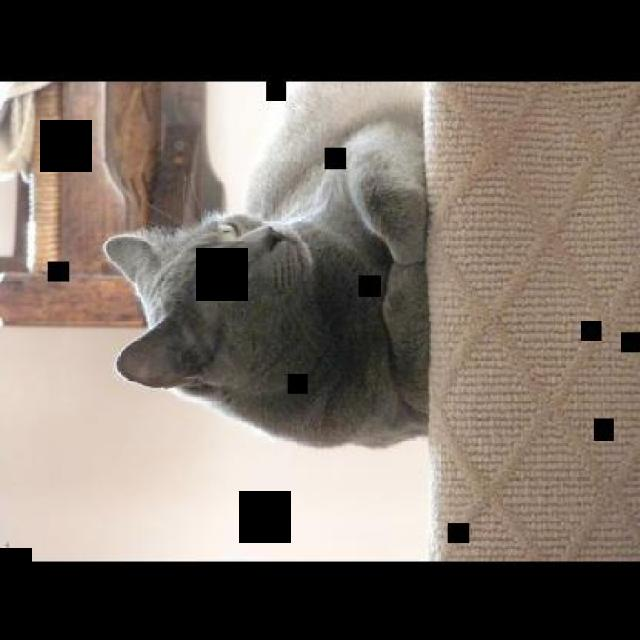unauthorized: (102, 82, 429, 449)
